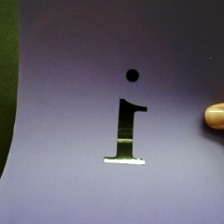violet1: (94, 64, 163, 174)
